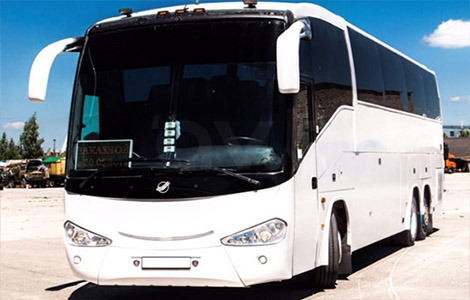bus: (26, 3, 446, 285)
